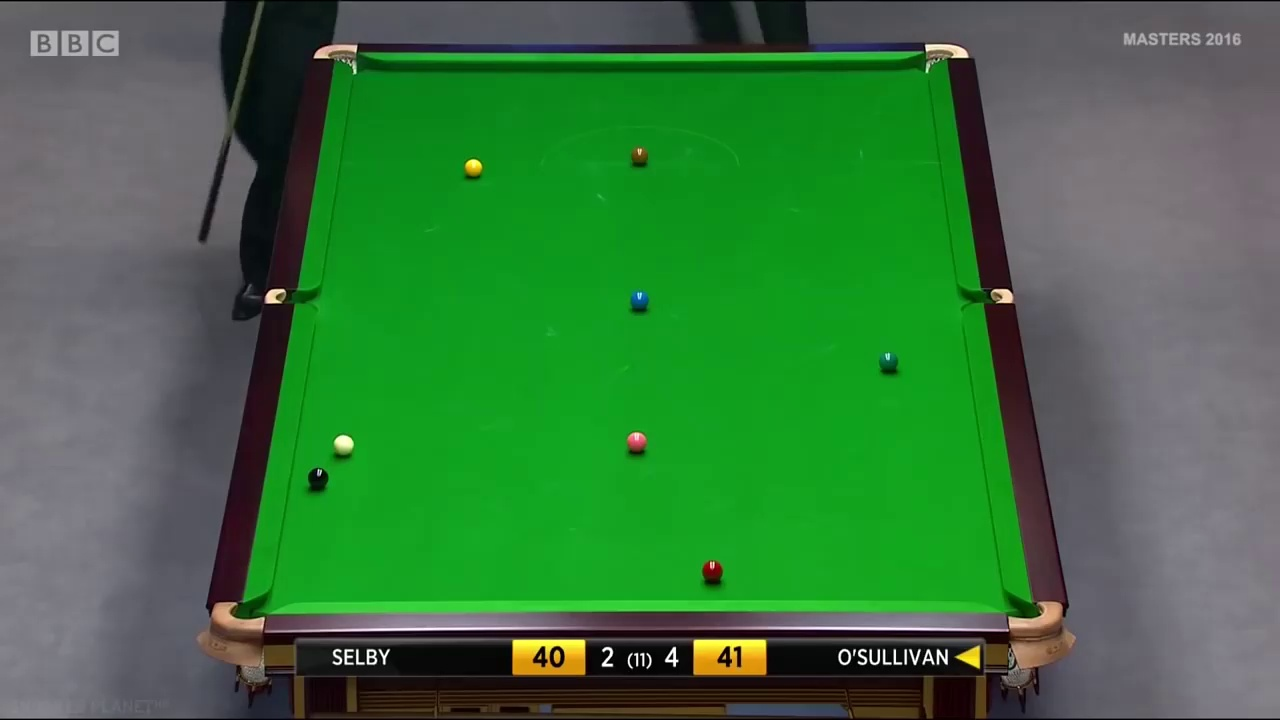ball: (624, 431, 648, 454), (878, 350, 900, 375), (703, 559, 723, 586), (307, 469, 330, 491), (629, 290, 650, 314), (331, 433, 354, 453), (464, 158, 485, 179), (630, 144, 648, 164)
